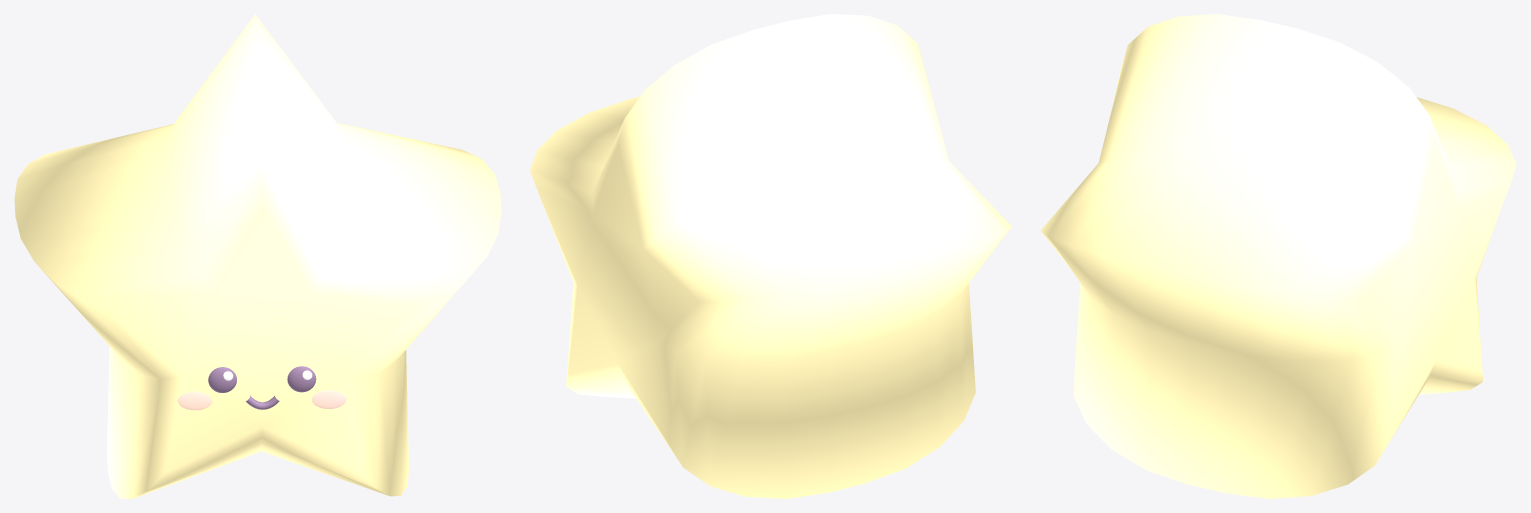
The model's file is life_star.glb.
The picture shows the model from 3 angles, left to right: view 1: azimuth 30°, elevation 25°; view 2: azimuth 150°, elevation 25°; view 3: azimuth 270°, elevation 25°; orthographic projection.
Visible parts, largest first — view 1: wrap_star_1, object 3, object 1; view 2: wrap_star_1; view 3: wrap_star_1.
Part boxes in pixels (x1,y1,x2,y2): wrap_star_1: (14, 14, 501, 498); object 3: (287, 366, 316, 392); object 1: (208, 367, 236, 392); wrap_star_1: (530, 14, 1011, 498); wrap_star_1: (1040, 14, 1516, 498).
Size of the model in its own units: 2.09 by 1.88 by 1.98.
